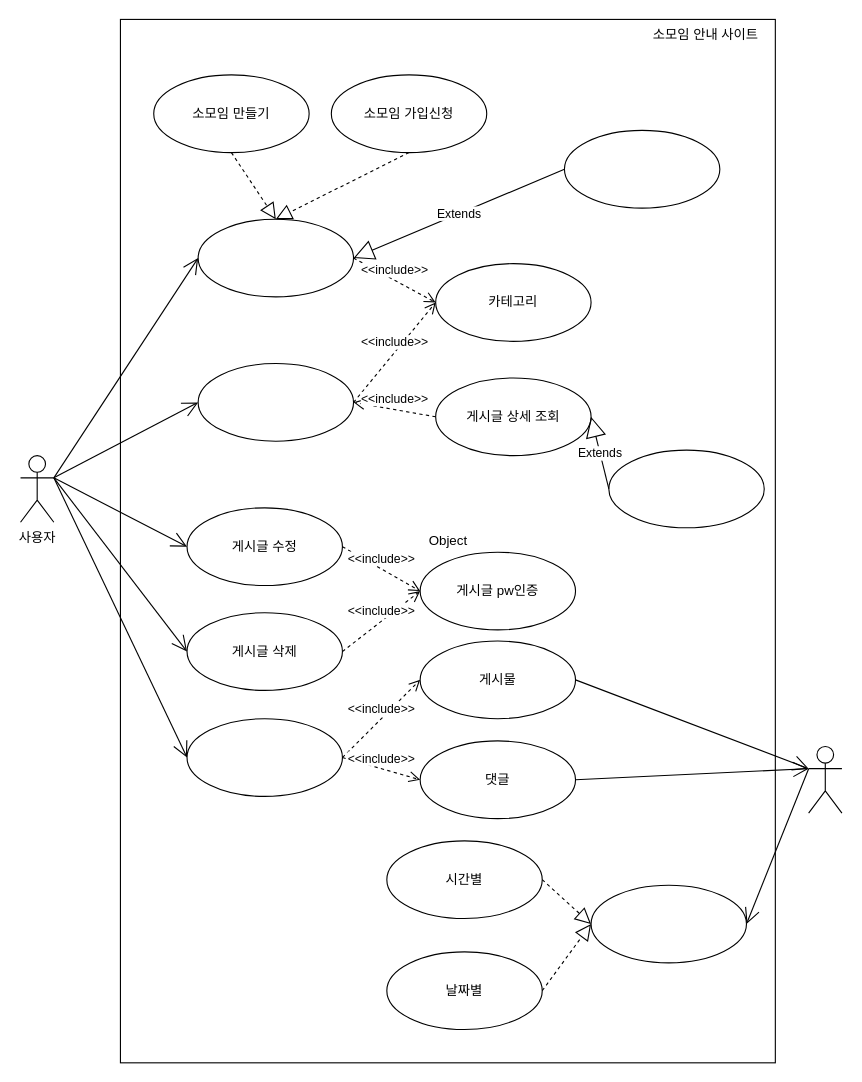
This 862x1082 diagram has some shape labels left out. Each missing label, with the box of its shape:
게시글 등록: (197, 218, 354, 297)
게시글 목록 조회: (197, 362, 354, 441)
관리자: (808, 745, 842, 813)
댓글달기: (608, 449, 764, 528)
방문자수 통계: (590, 884, 746, 963)
사진첨부: (563, 129, 720, 208)
신고하기: (186, 718, 342, 796)
